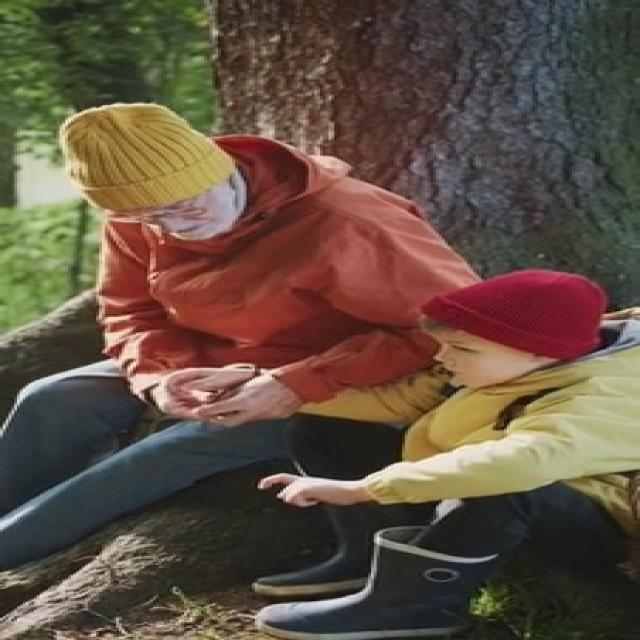Jacket_Wearer: (71, 188, 517, 422)
Person: (41, 86, 478, 424)
